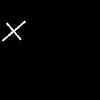single_crochet: (2, 21, 24, 40)
